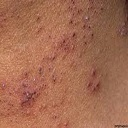Wart: (18, 69, 44, 106), (56, 34, 79, 56), (85, 68, 105, 90)
